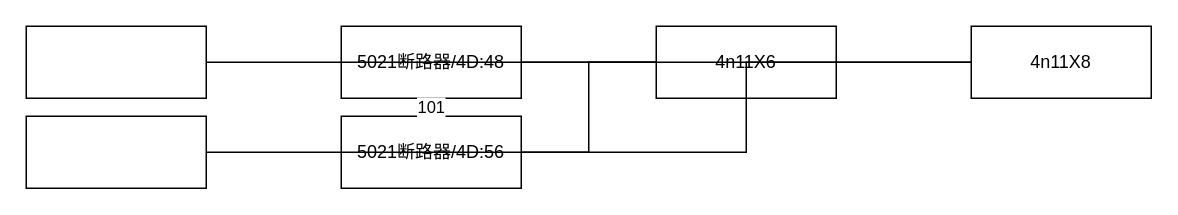
Image size: 1178x215. Some labels were removed from this diagram. The shapes that lost their labels are listed below. From the top down, each one's centre as x and y in pixels, then its label:
point 115,61: 5011断路器/4D:48
point 115,151: 5011断路器/4D:56
